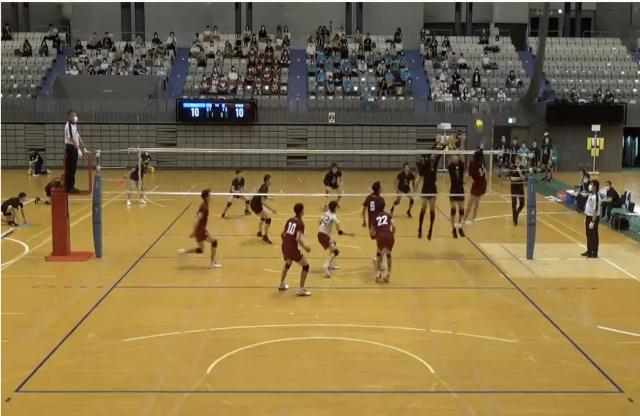spike: (459, 118, 492, 233)
